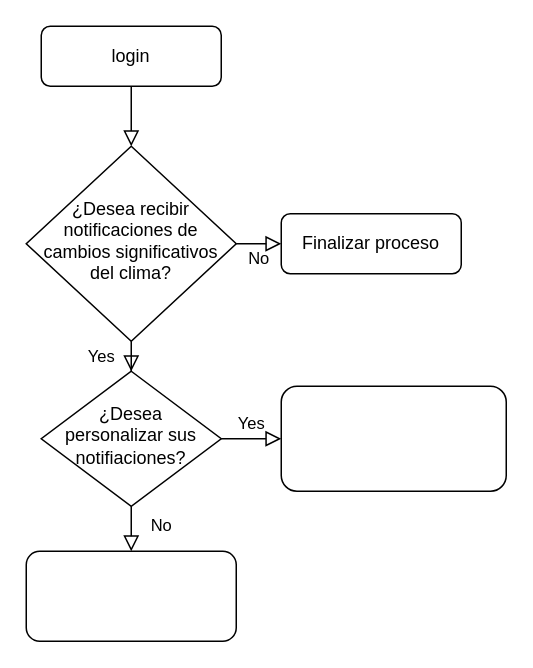
The diagram is 533 pixels wide and 668 high, and some of its shapes have lost their labels. Here are the shapes that lost their labels. From the top down, the centre of each, then its label:
At [393,438]: "Mostrar una lista la cual se marcaran las notificaciones que se desean recibir".
At [130,595]: "Predeterminar mostrar todas las notifiacaciones".
